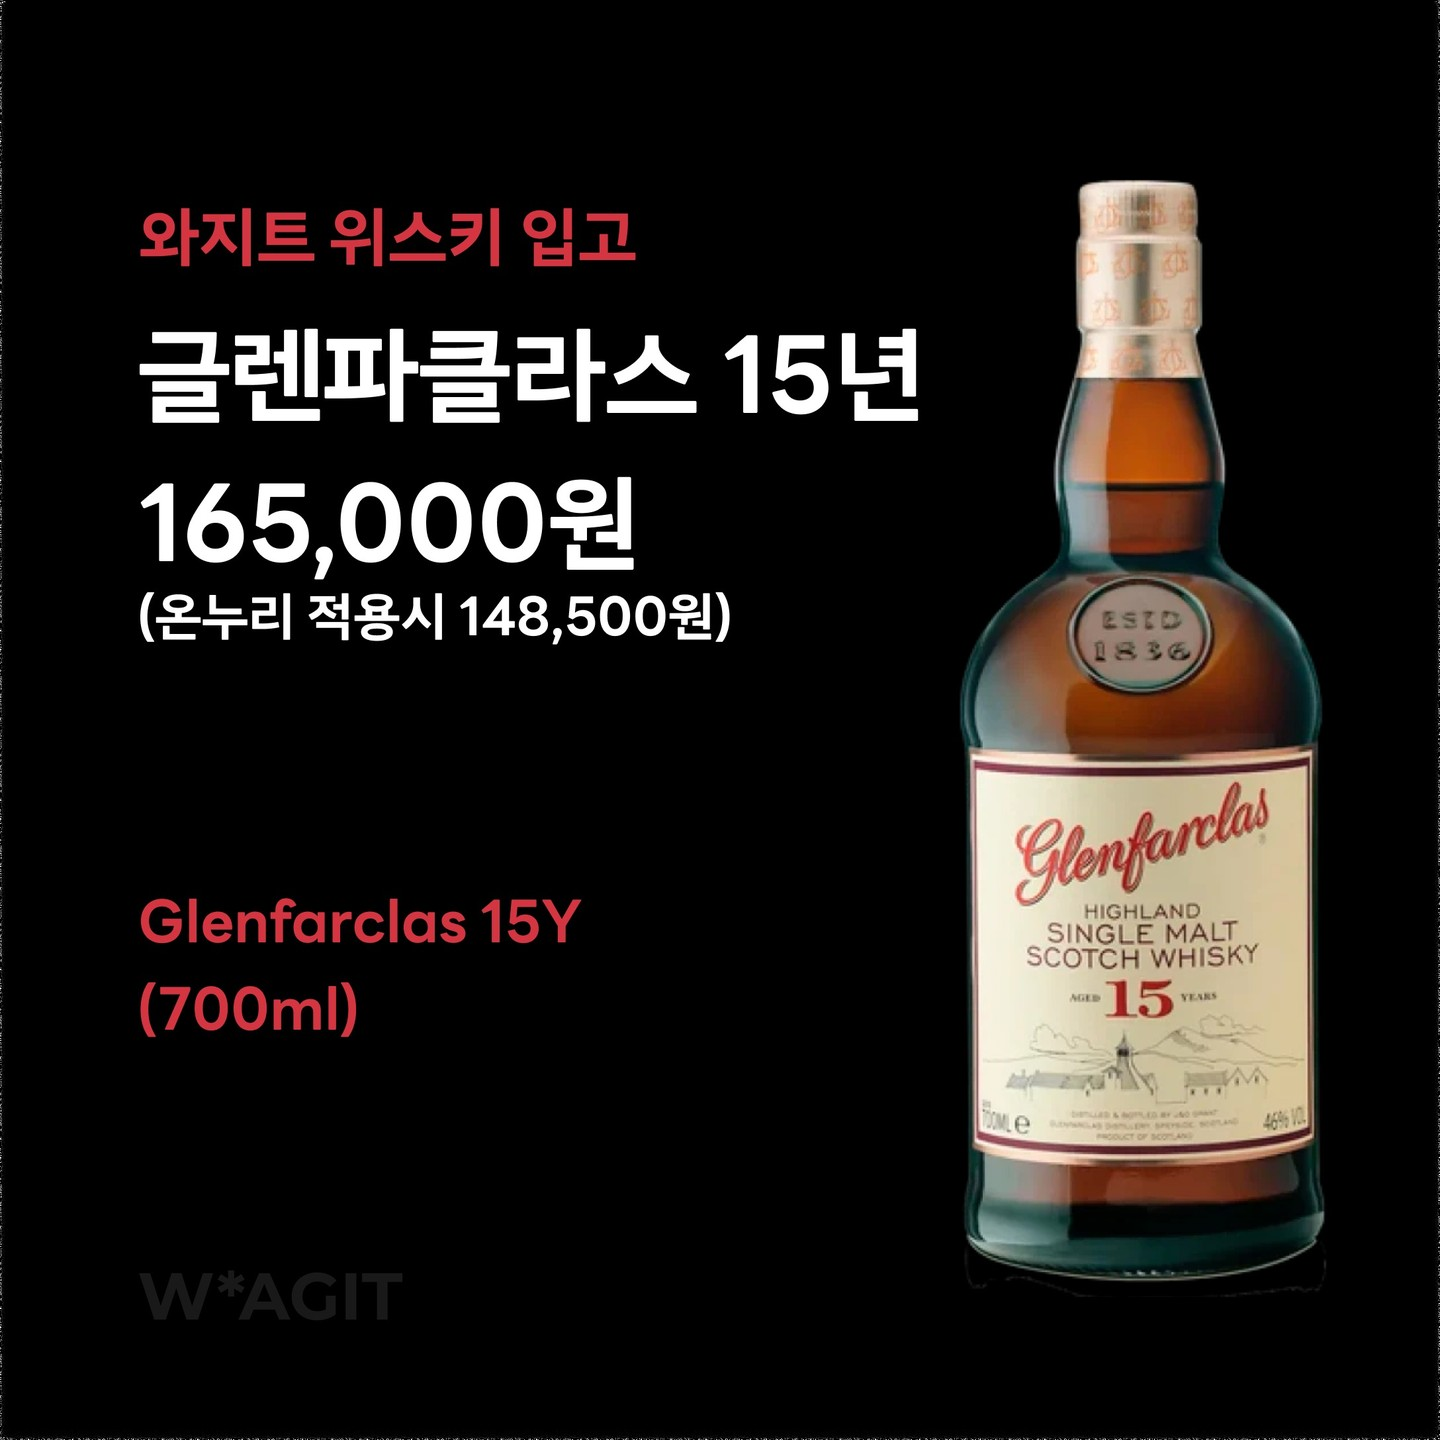alcohol: (952, 166, 1337, 1299)
